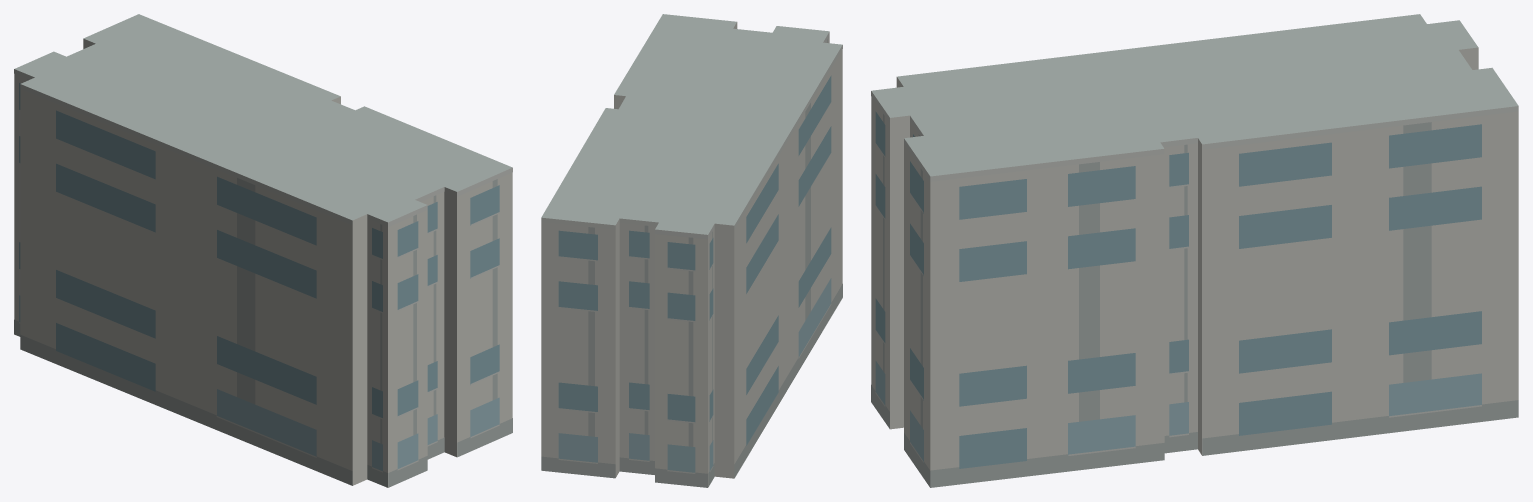
The model's file is survey-upis-32611066.glb.
3 renders of one model, left to right at view 1: azimuth 30°, elevation 25°; view 2: azimuth 150°, elevation 25°; view 3: azimuth 270°, elevation 25°, orthographic. The views are drawn at different scales.
Parts seen in each view (by area): view 1: survey-upis-32611066.tmp; view 2: survey-upis-32611066.tmp; view 3: survey-upis-32611066.tmp.
Part boxes in pixels (x1,y1,x2,y2): survey-upis-32611066.tmp: (14, 14, 512, 487); survey-upis-32611066.tmp: (541, 14, 842, 487); survey-upis-32611066.tmp: (871, 14, 1518, 487).
Size of the model in its own units: 15.45 by 13.8 by 26.02.
